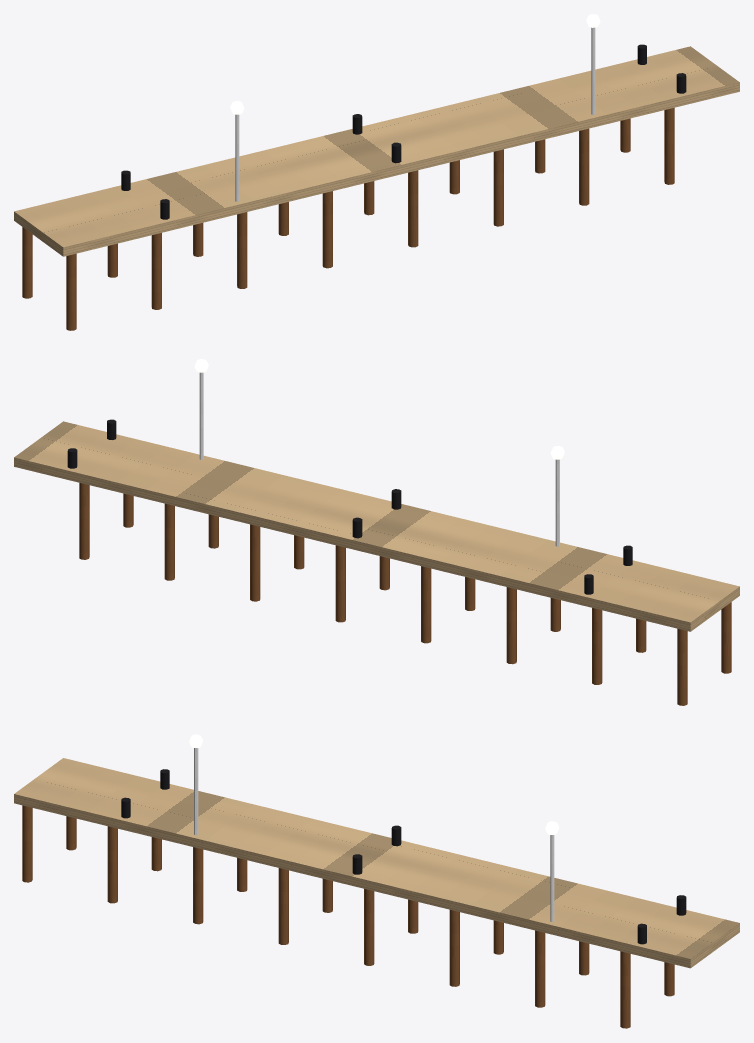
The model's file is p_ai_jetty.glb.
3 renders of one model, top to bottom at view 1: azimuth 30°, elevation 25°; view 2: azimuth 150°, elevation 25°; view 3: azimuth 330°, elevation 25°, orthographic.
Visible parts, largest first — view 1: p_ai_jetty_lod0; view 2: p_ai_jetty_lod0; view 3: p_ai_jetty_lod0.
Part boxes in pixels (x1,y1,x2,y2): p_ai_jetty_lod0: (14, 14, 739, 330); p_ai_jetty_lod0: (14, 359, 739, 705); p_ai_jetty_lod0: (14, 734, 739, 1028).
Size of what is drawn, in the model's own units: 19 by 4.98 by 2.4.
Materials: 2 (1 with a texture image).
